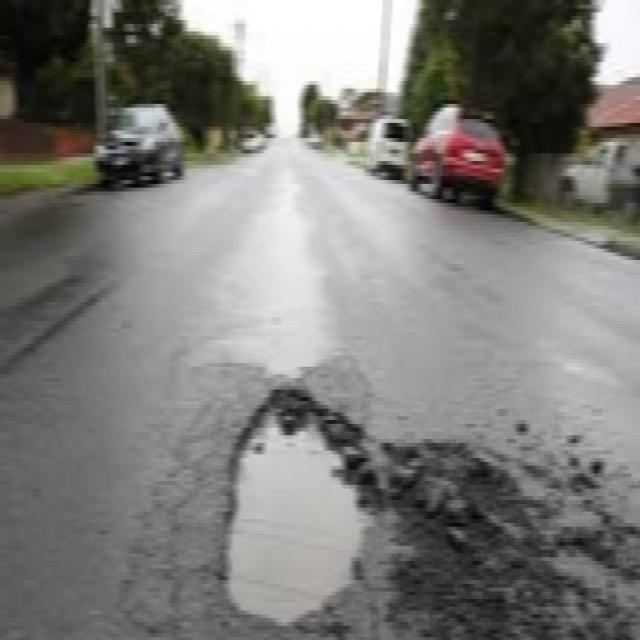Pothole: (213, 372, 369, 636)
